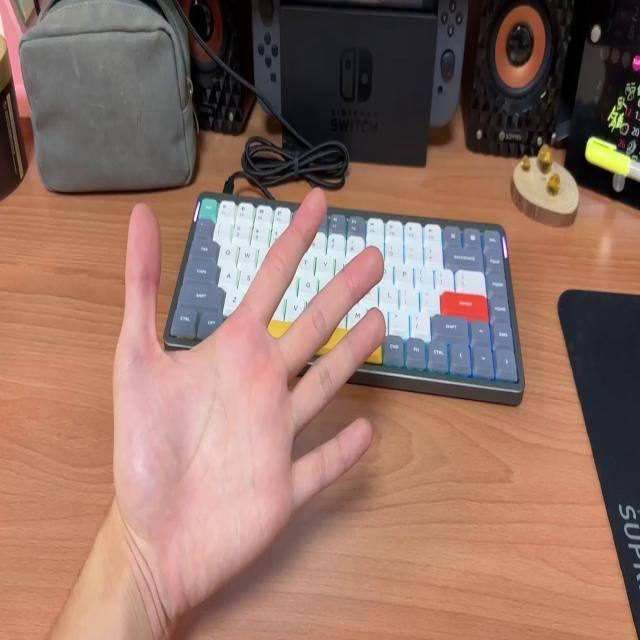keyboard-with-hands: (166, 192, 523, 389)
